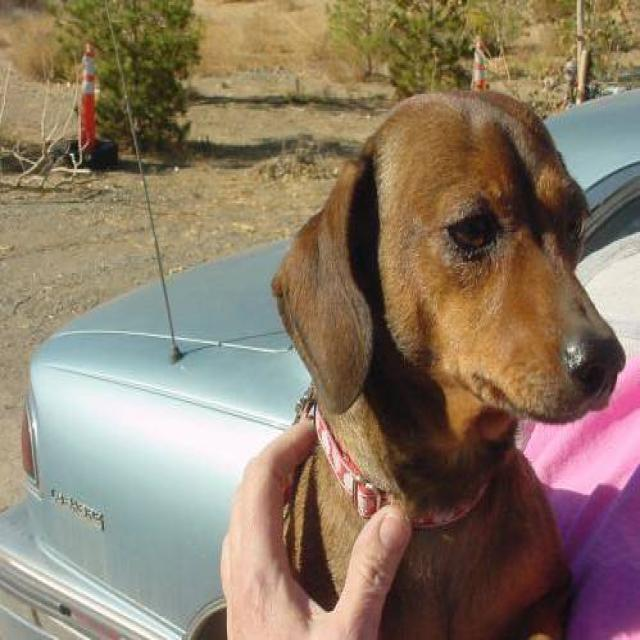dog: (269, 86, 626, 638)
